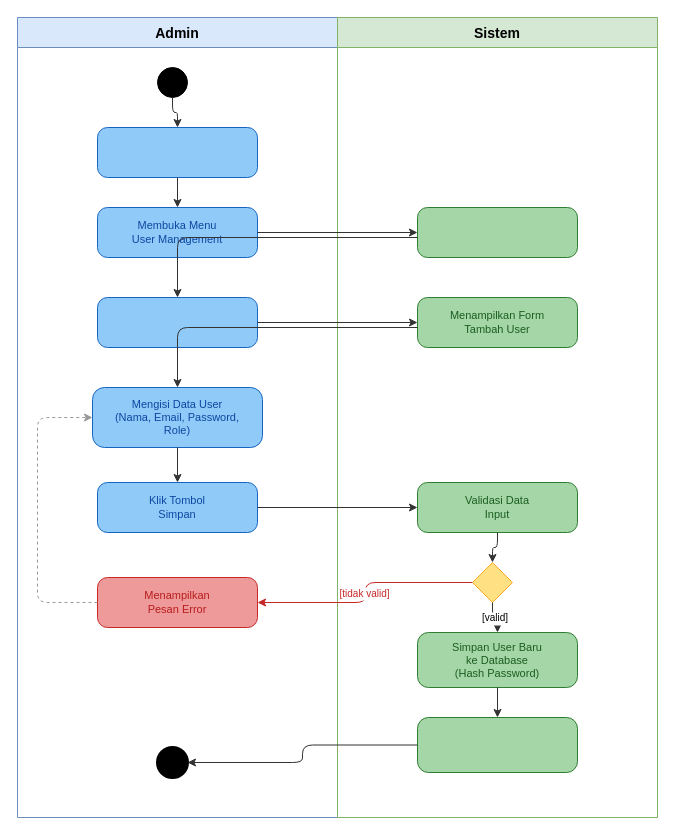
Image size: 675x835. Some labels were removed from this diagram. The shapes that lost their labels are listed below. From the top down, each one's centre as x and y in pixels, then its label:
At point (177, 152): "Login ke Sistem sebagai Admin".
At point (497, 232): "Menampilkan Halaman User".
At point (177, 322): "Klik Tombol Tambah User".
At point (497, 744): "Menampilkan Pesan Sukses & Redirect ke Daftar User".
